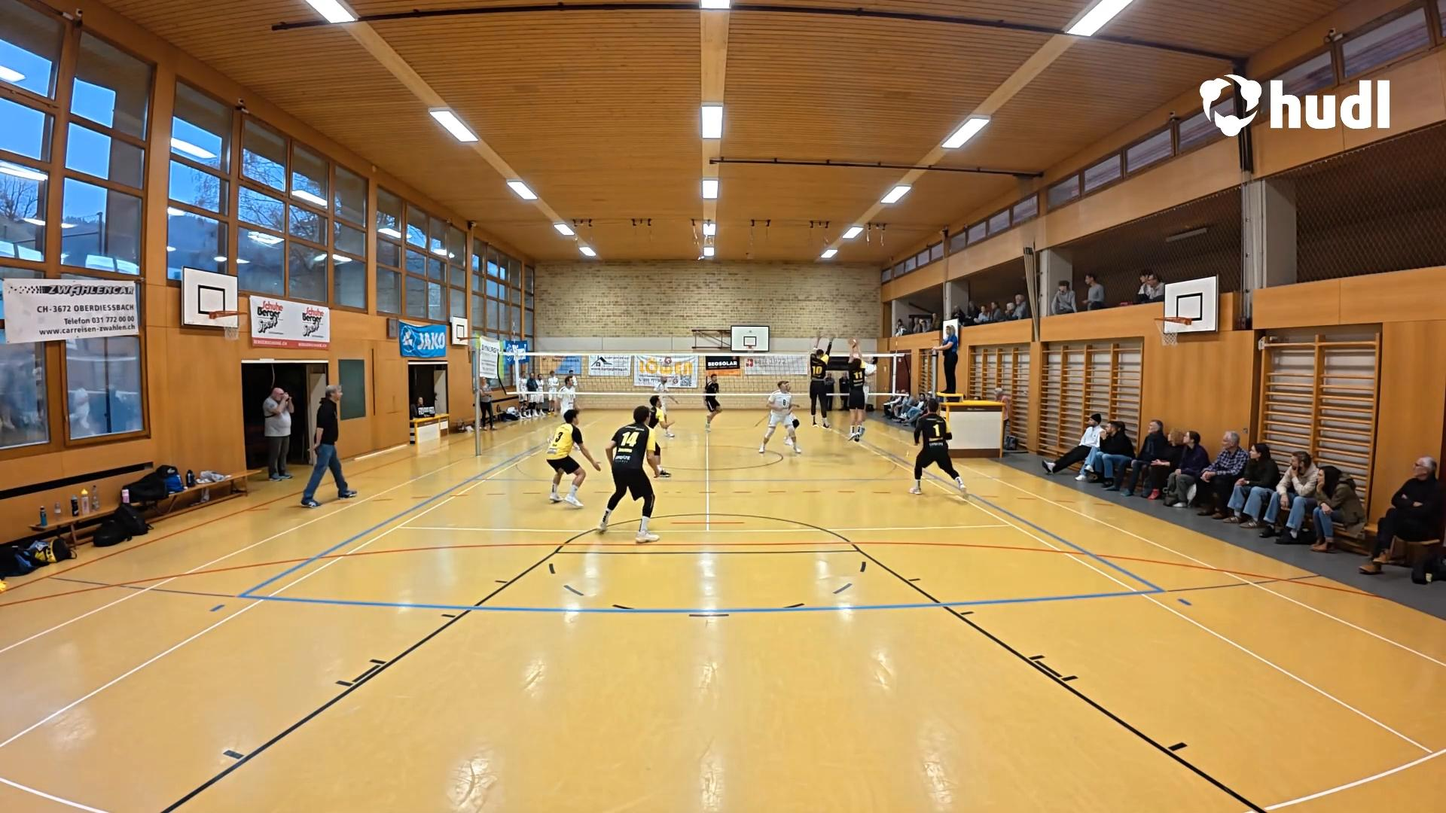Attack: (859, 345, 886, 435)
Block: (802, 331, 839, 441), (841, 333, 871, 446)
Player: (597, 401, 663, 541), (910, 399, 969, 499), (547, 410, 603, 507), (759, 379, 800, 455), (639, 394, 672, 480), (649, 369, 681, 442), (550, 370, 583, 424), (700, 370, 726, 431)
ball: (845, 335, 860, 348)
